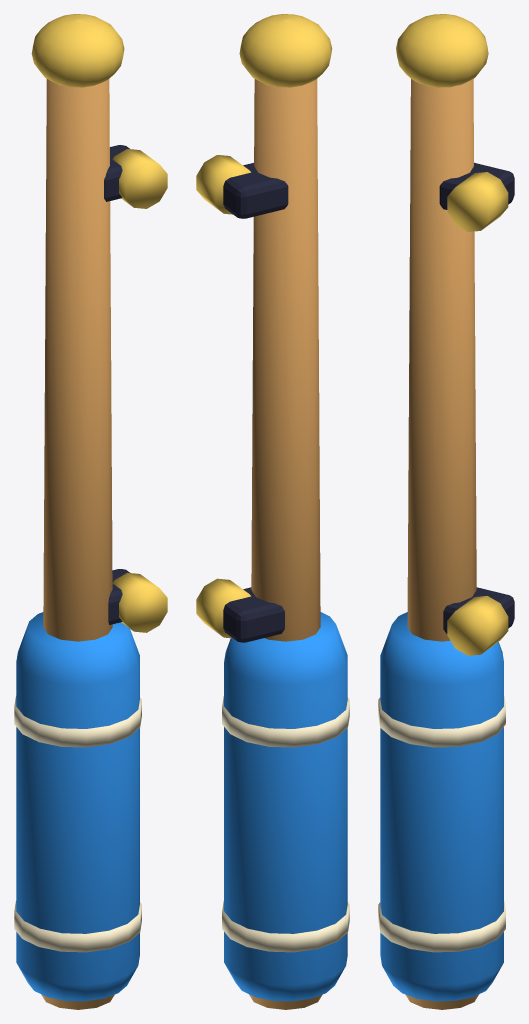
Rendered from padded-net-post.glb.
3 views of the same model, side by side, from view 1: azimuth 30°, elevation 25°; view 2: azimuth 210°, elevation 25°; view 3: azimuth 330°, elevation 25° (orthographic).
Visible parts, largest first — view 1: Bamboo standard; view 2: Bamboo standard; view 3: Bamboo standard.
Part boxes in pixels (box(x1,y1,x2,y2)): Bamboo standard: box(14, 14, 167, 1009); Bamboo standard: box(196, 14, 349, 1009); Bamboo standard: box(378, 14, 514, 1009).
Bounding box in the file's own units: 0.3668 × 2.76 × 0.33.
